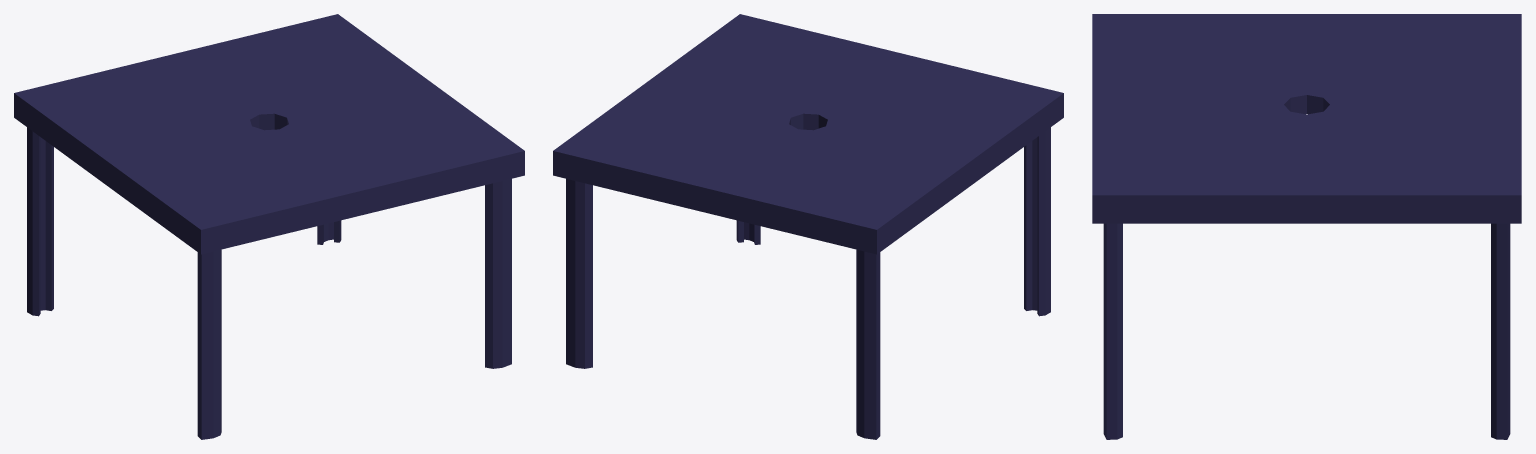
The model's file is table10.fbx.
3 renders of one model, left to right at view 1: azimuth 30°, elevation 25°; view 2: azimuth 150°, elevation 25°; view 3: azimuth 270°, elevation 25°, orthographic. The views are drawn at different scales.
Parts seen in each view (by area): view 1: Table10; view 2: Table10; view 3: Table10.
Boxes of the visible parts, left/top/right/bottom form: Table10: left=14, top=14, right=524, bottom=439; Table10: left=553, top=14, right=1063, bottom=439; Table10: left=1092, top=14, right=1521, bottom=439.
Bounding box in the file's own units: 123 × 78.3 × 123.
